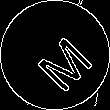M_NW: (21, 21, 89, 89)
